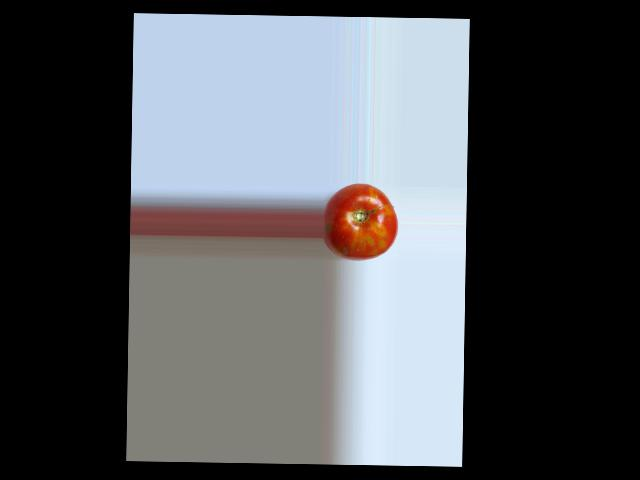tomato: (322, 182, 398, 261)
